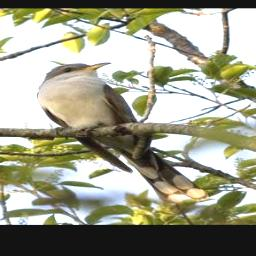Cuckoo: (36, 62, 208, 203)
